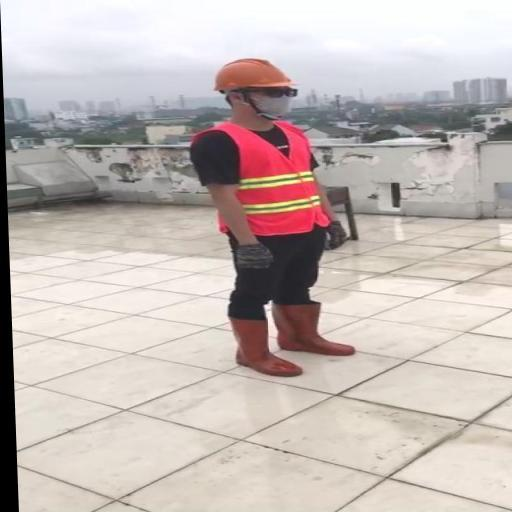safety_boots: (213, 315, 305, 401), (275, 300, 356, 367)
